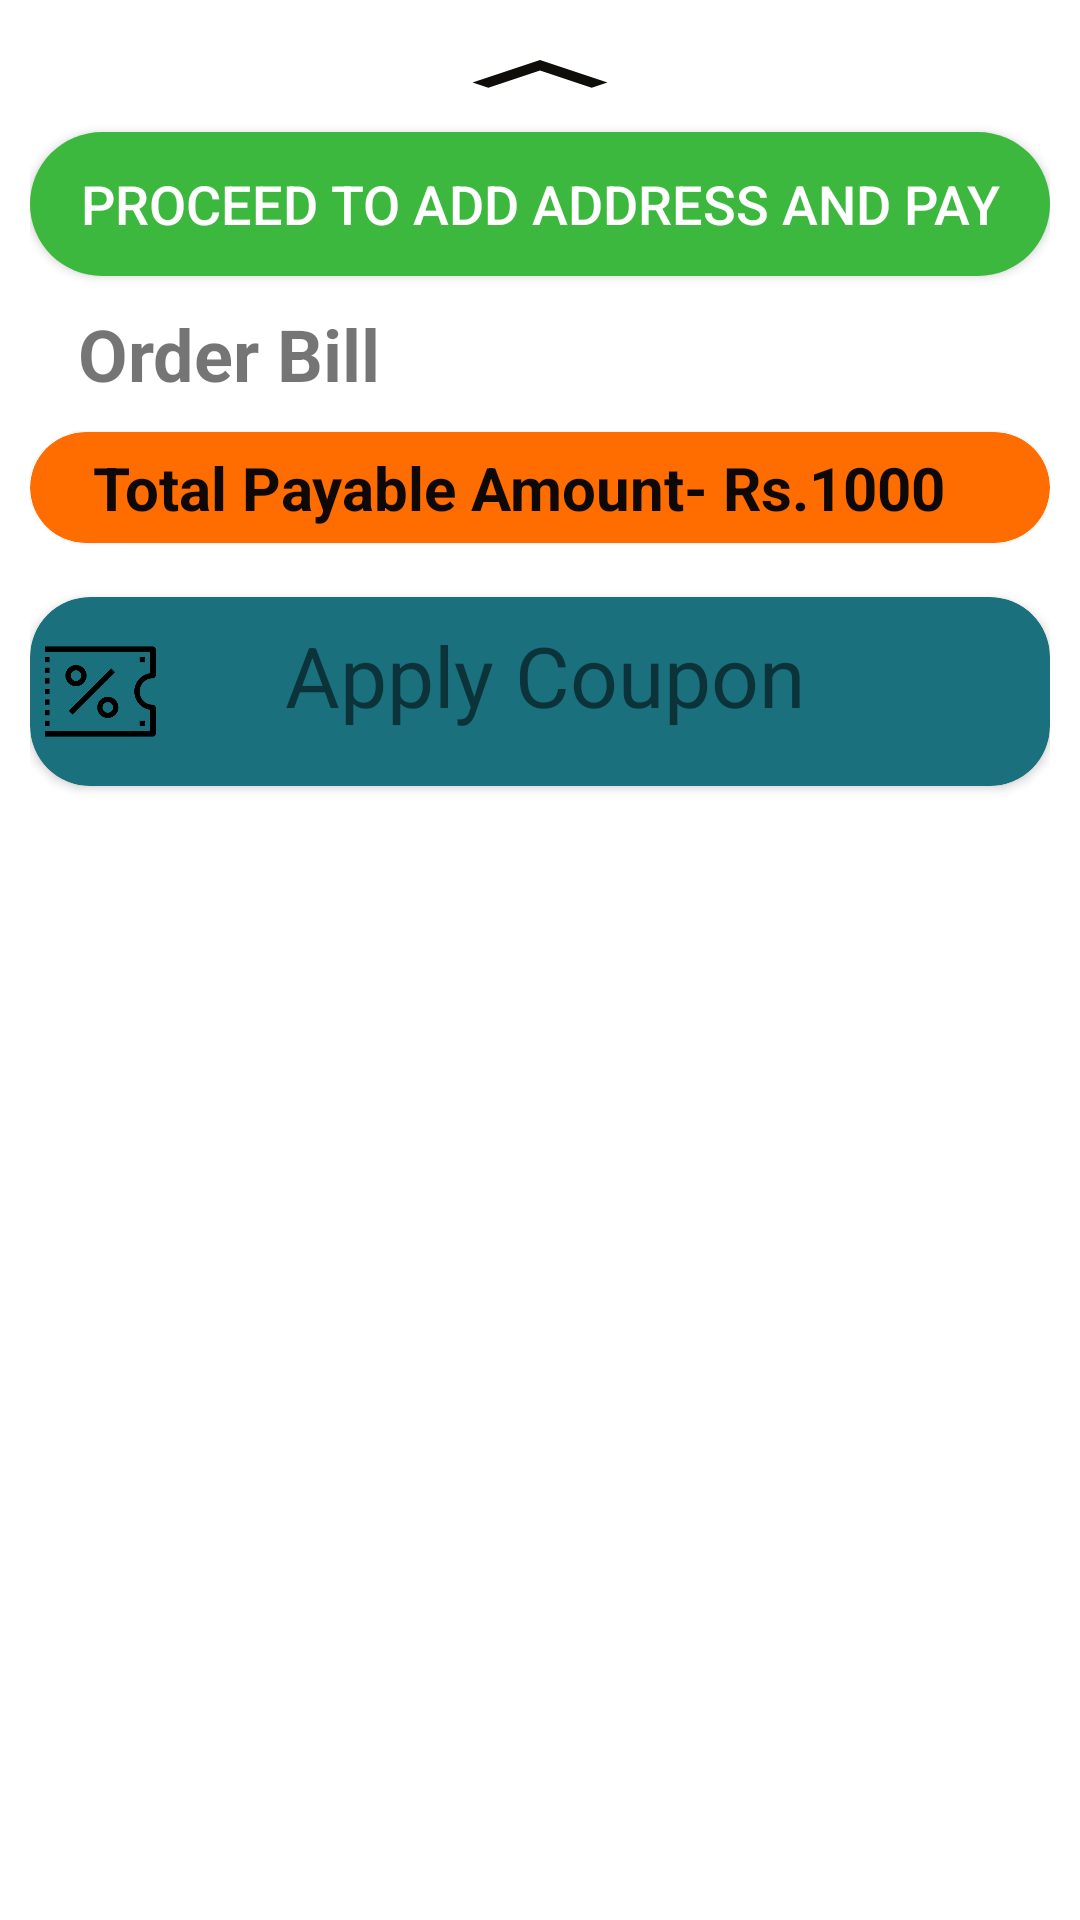

Named icons in this screenshot (1080*1920) and their bounding boxes, (x1, y1, x2, y2):
keyboard arrow up: (473, 60, 607, 88)
